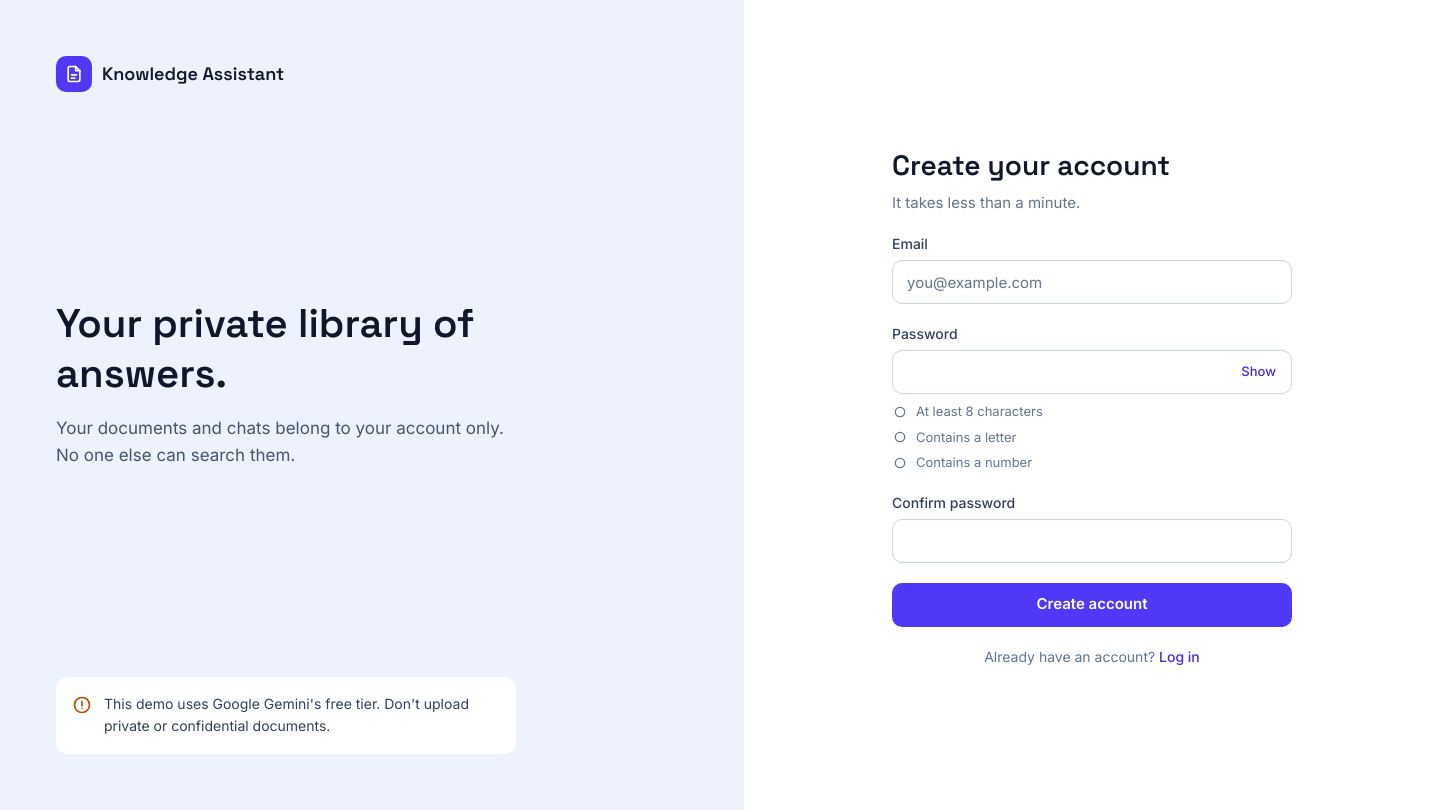
Test: RegisterPage › shows the server's message when the email is taken
Step 1. Type "new@example.com" into the field labelled "Email" → (1092, 282), box [892,260,1292,304]
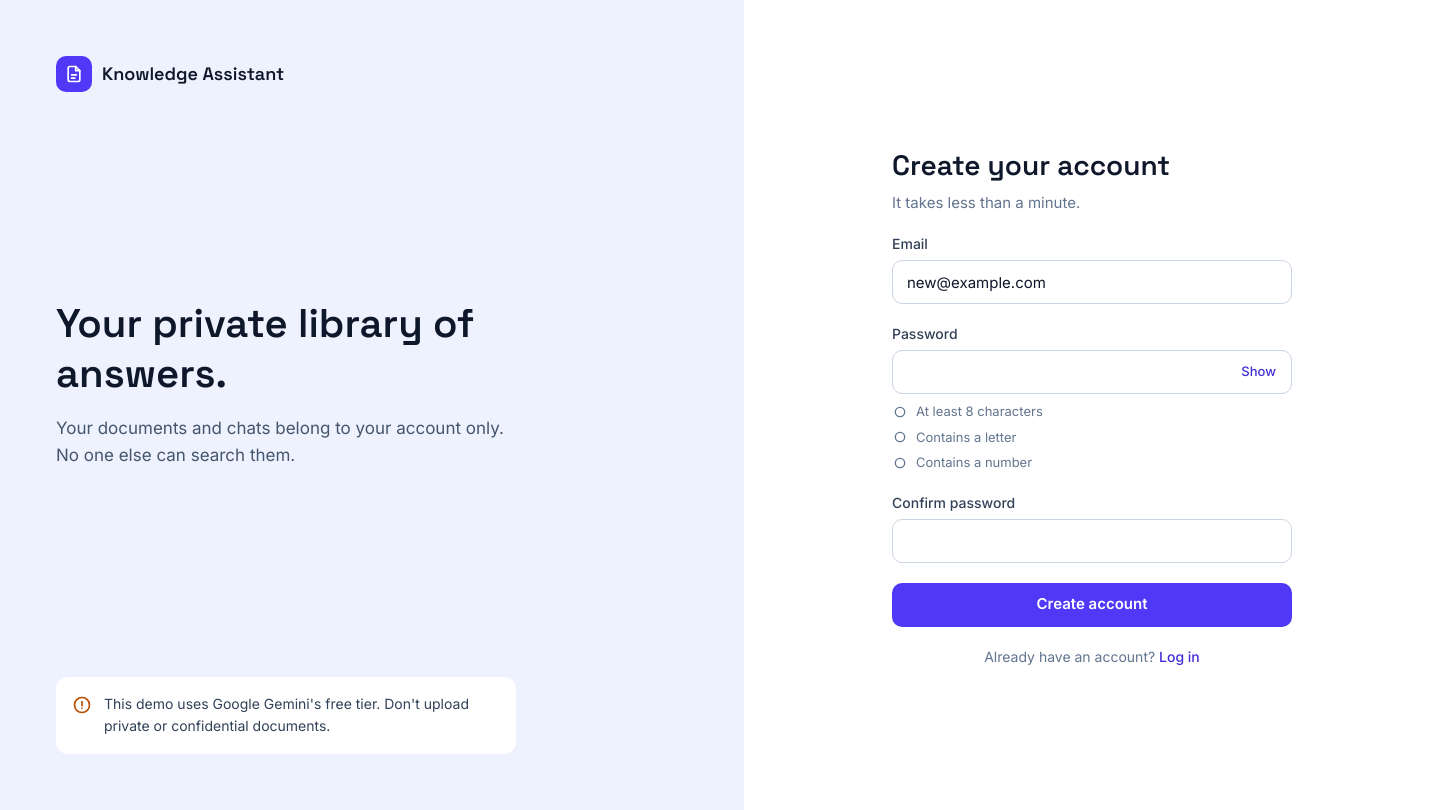
Step 2. Type "Test12345" into the password field labelled "Password" → (1092, 372), box [892,350,1292,394]
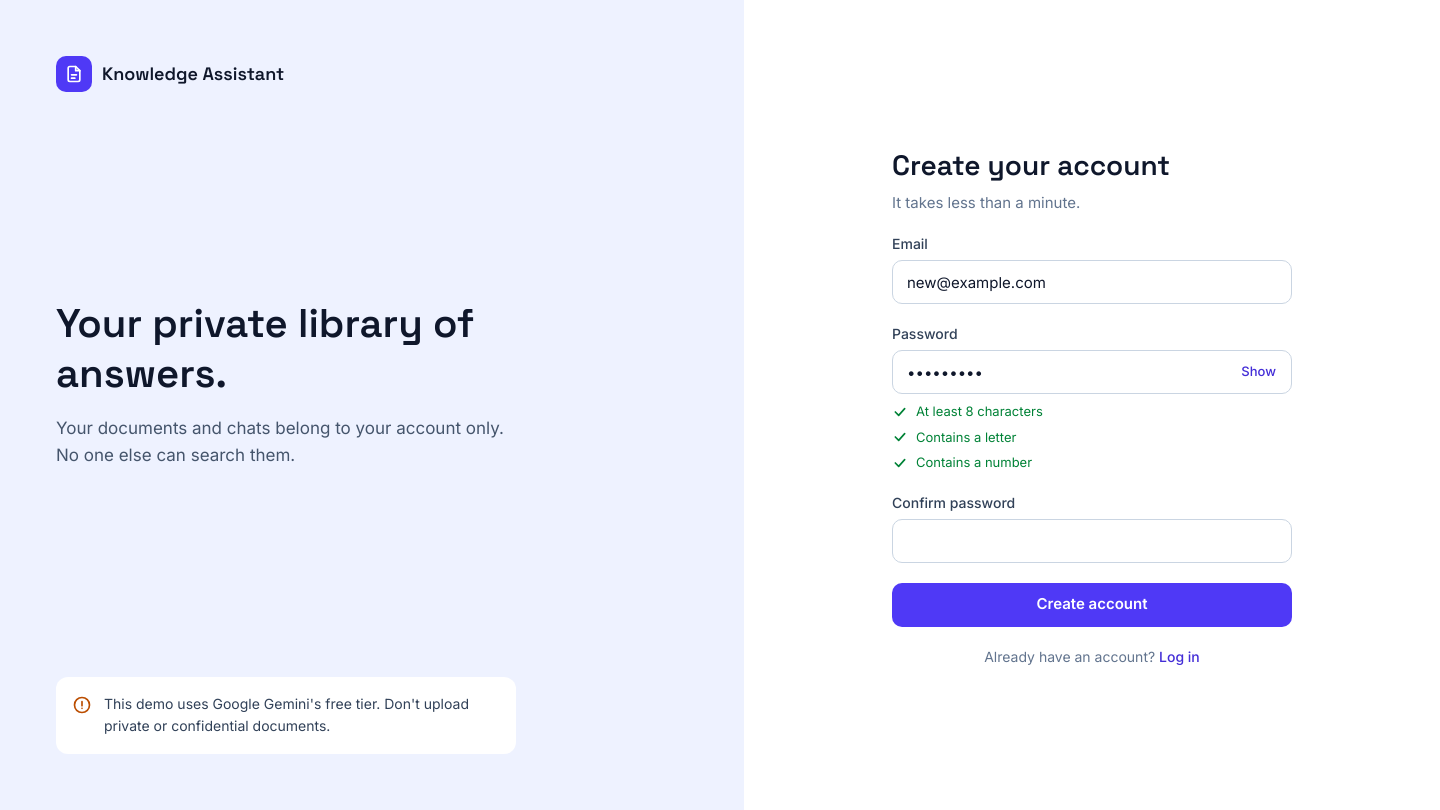
Step 3. Type "Test12345" into the password field labelled "Confirm password" → (1092, 540), box [892,518,1292,562]
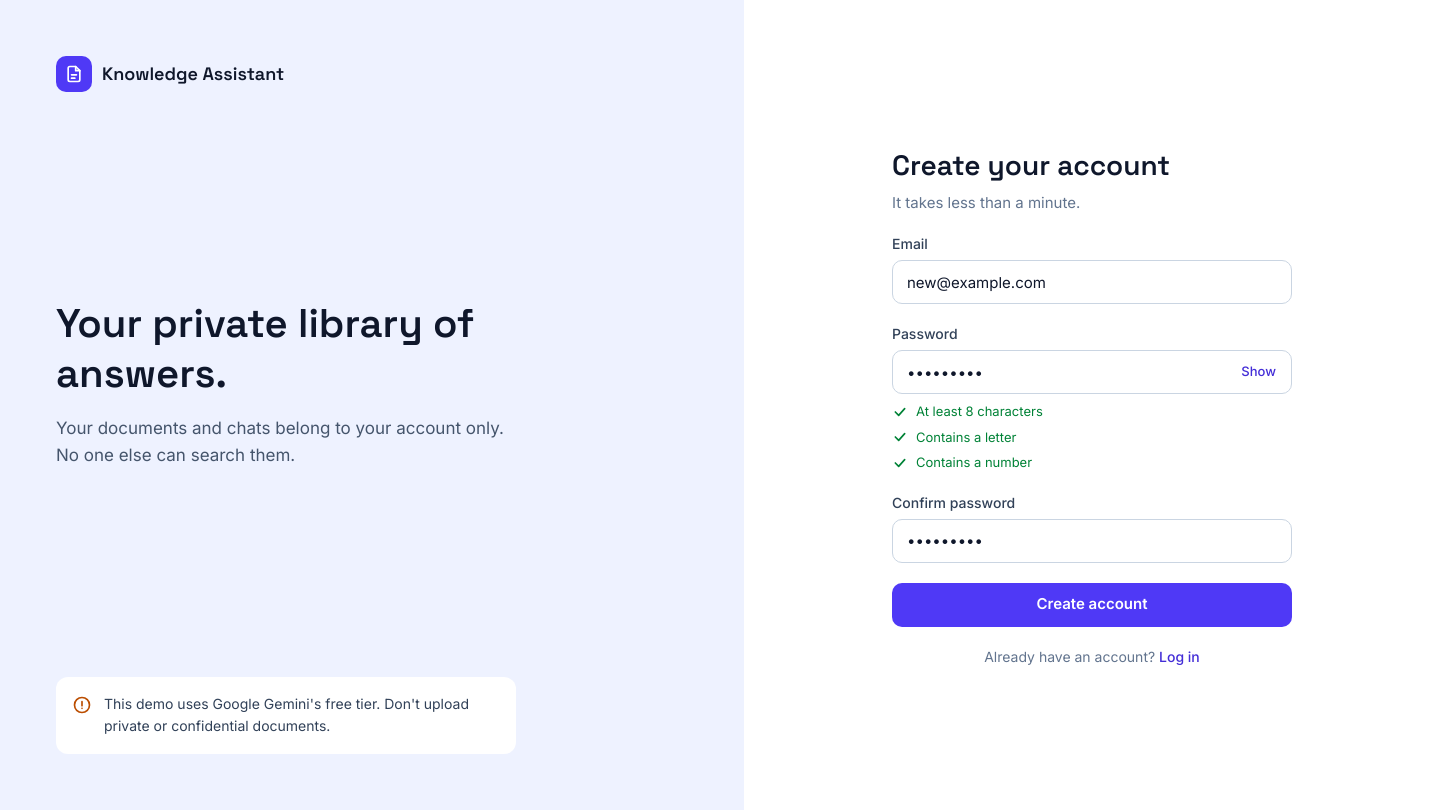
Step 4. Click the button "Create account" → click(1092, 604), box [892,582,1292,626]
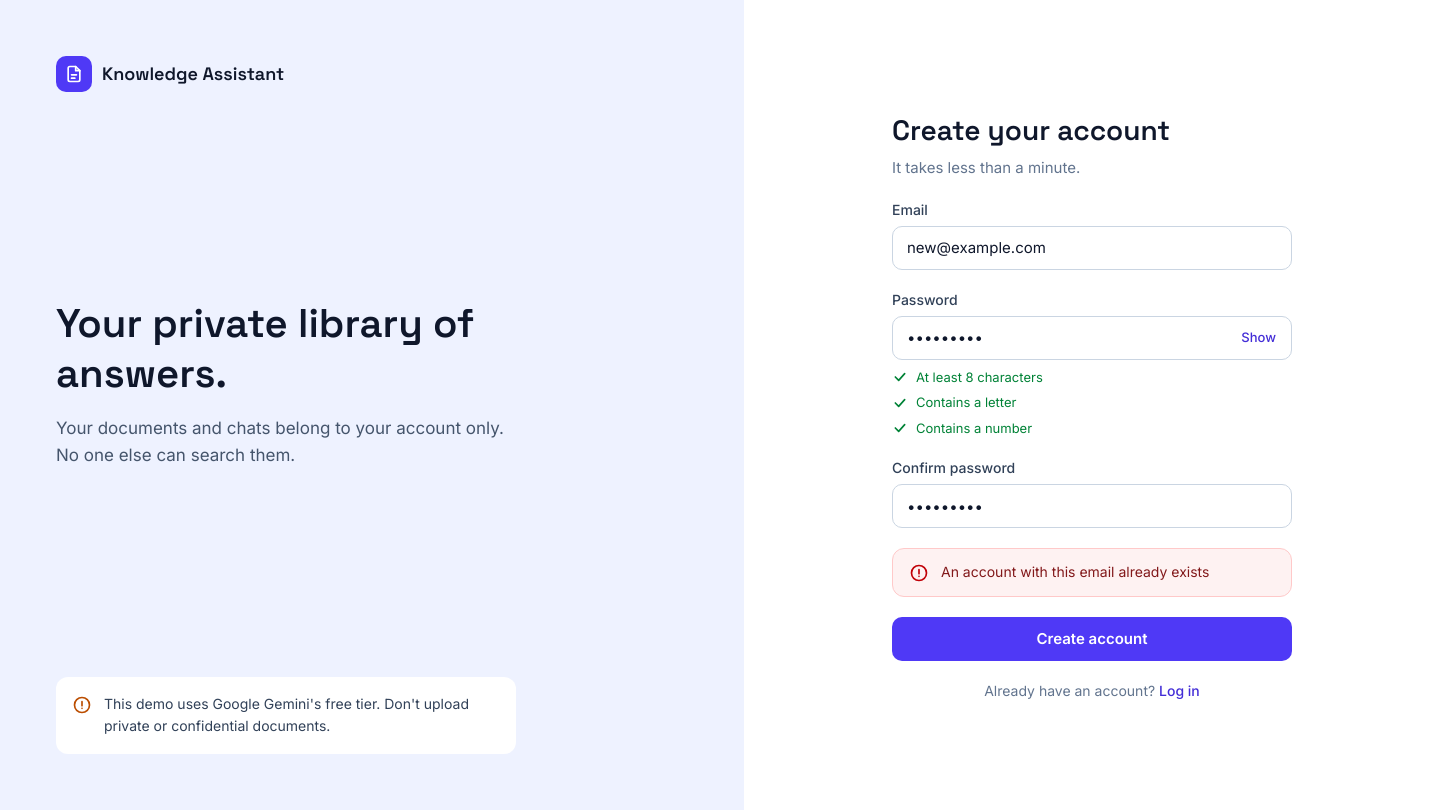
Check: the message reads "An account with this email already exists", box [941,563,1209,580]
